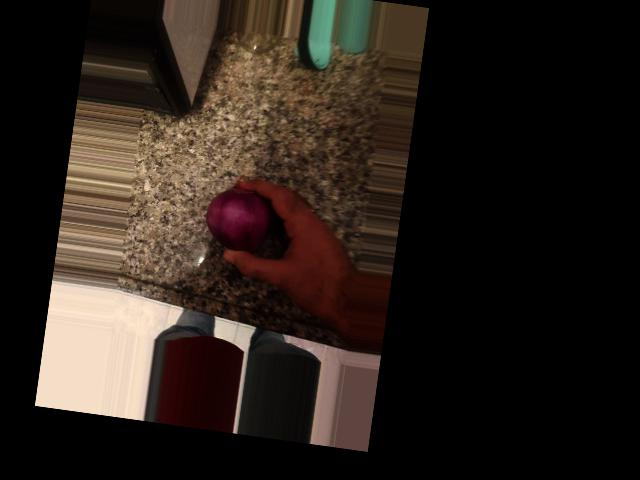onion: (195, 173, 270, 275)
